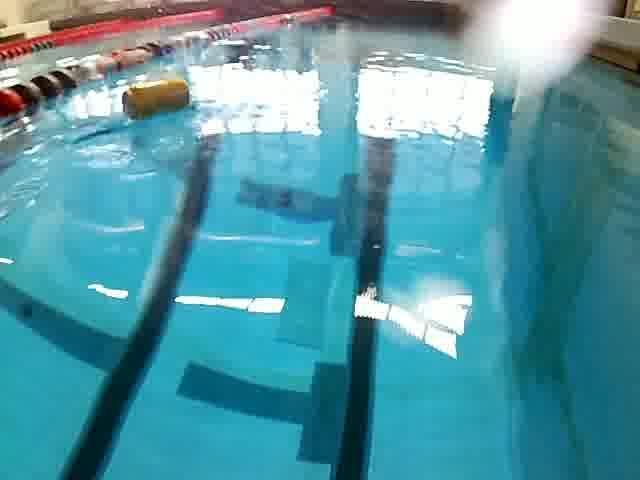Can: (120, 78, 194, 124)
